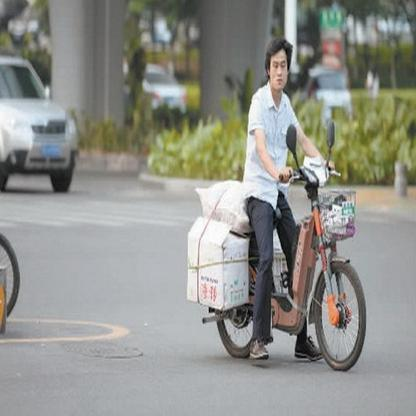target: (188, 37, 367, 373)
